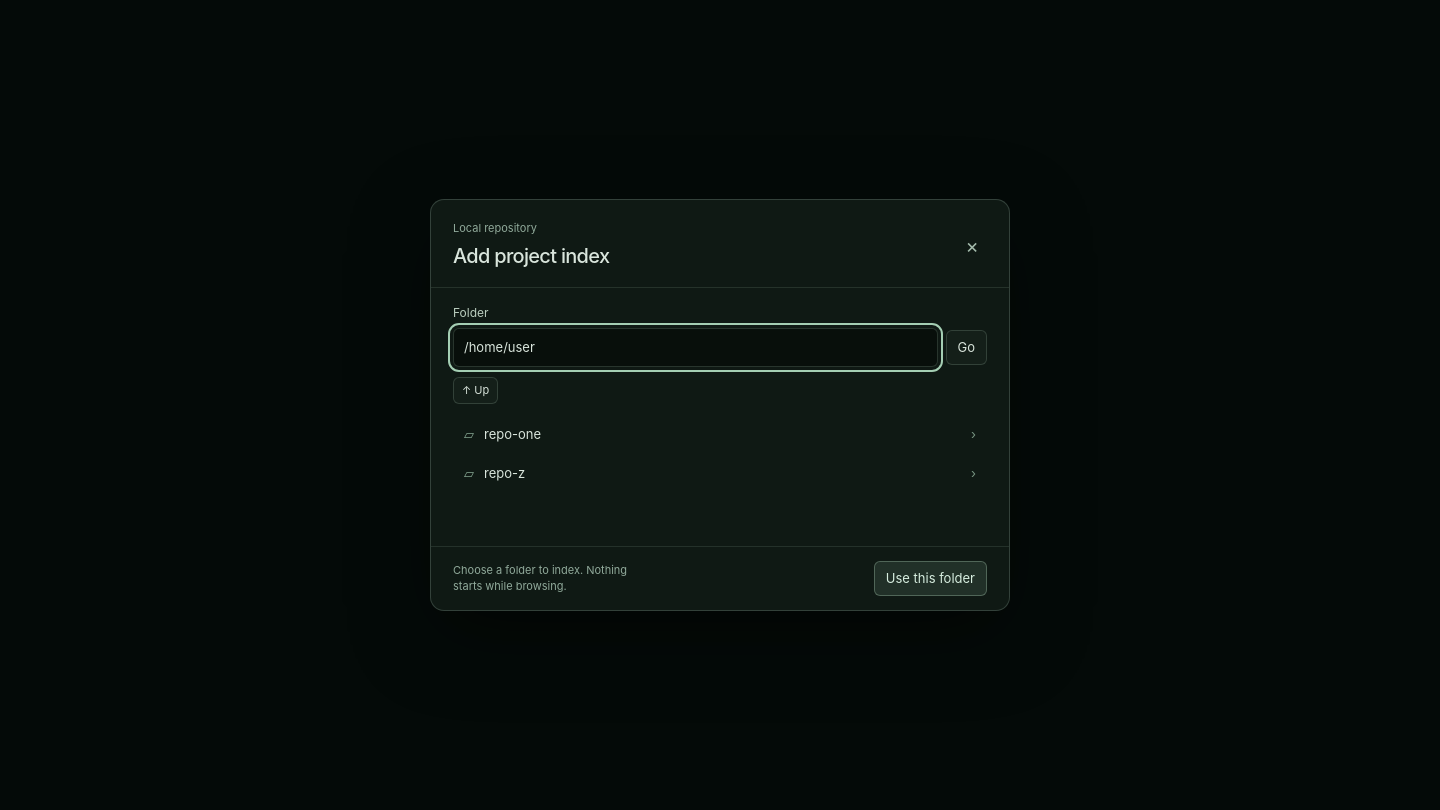
Test: AddProjectIndexDialog › cannot recover an invalid acknowledgment by matching an invalid status slot
Click the button "▱ repo-one ›" at x=513, y=434, box [453,414,987,454]
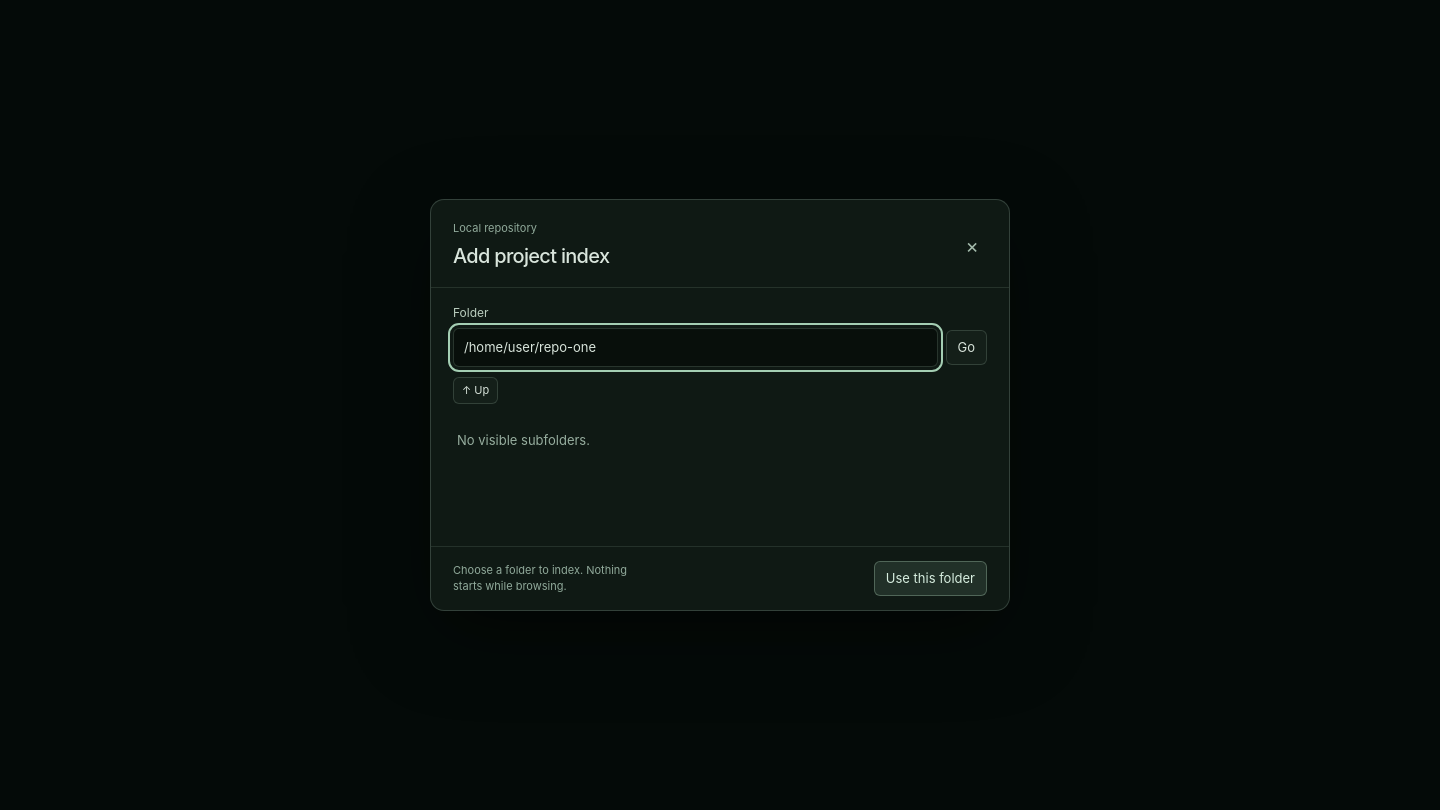
Click the button "Use this folder" at x=930, y=578, box [874,560,987,596]
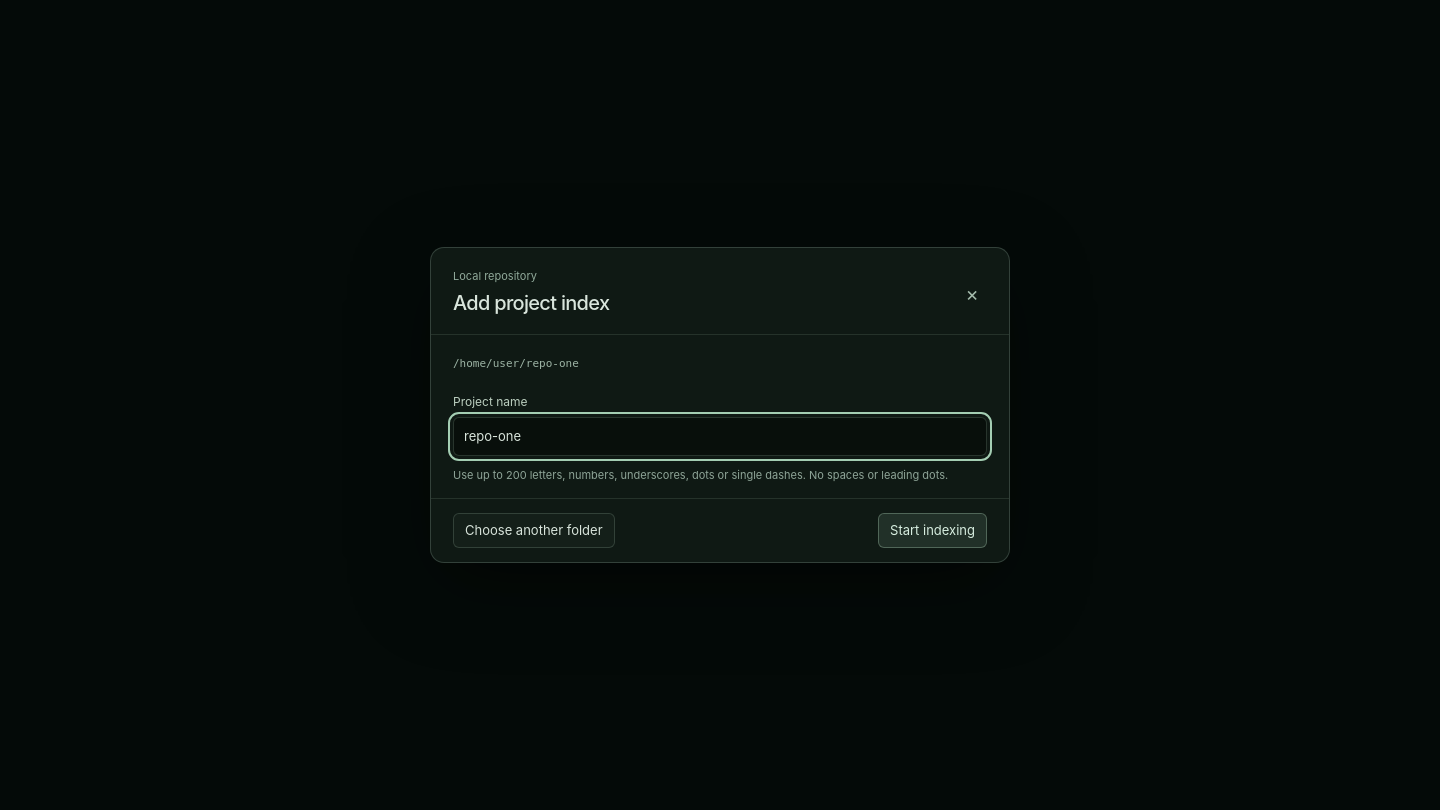
Click the button "Start indexing" at x=932, y=531, box [878,513,987,548]
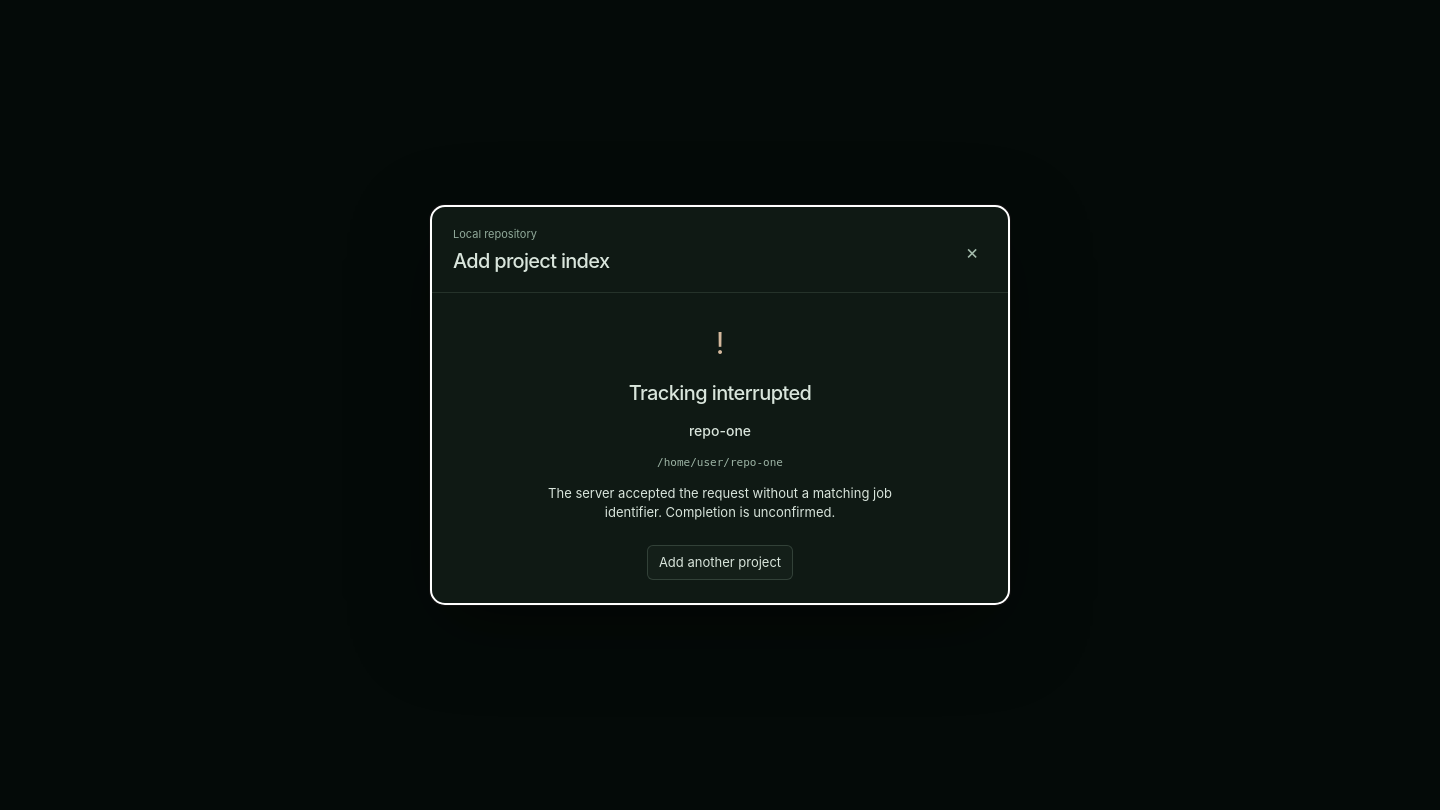
Expected: the text "Completion is unconfirmed" is shown, [548,484,892,520]
